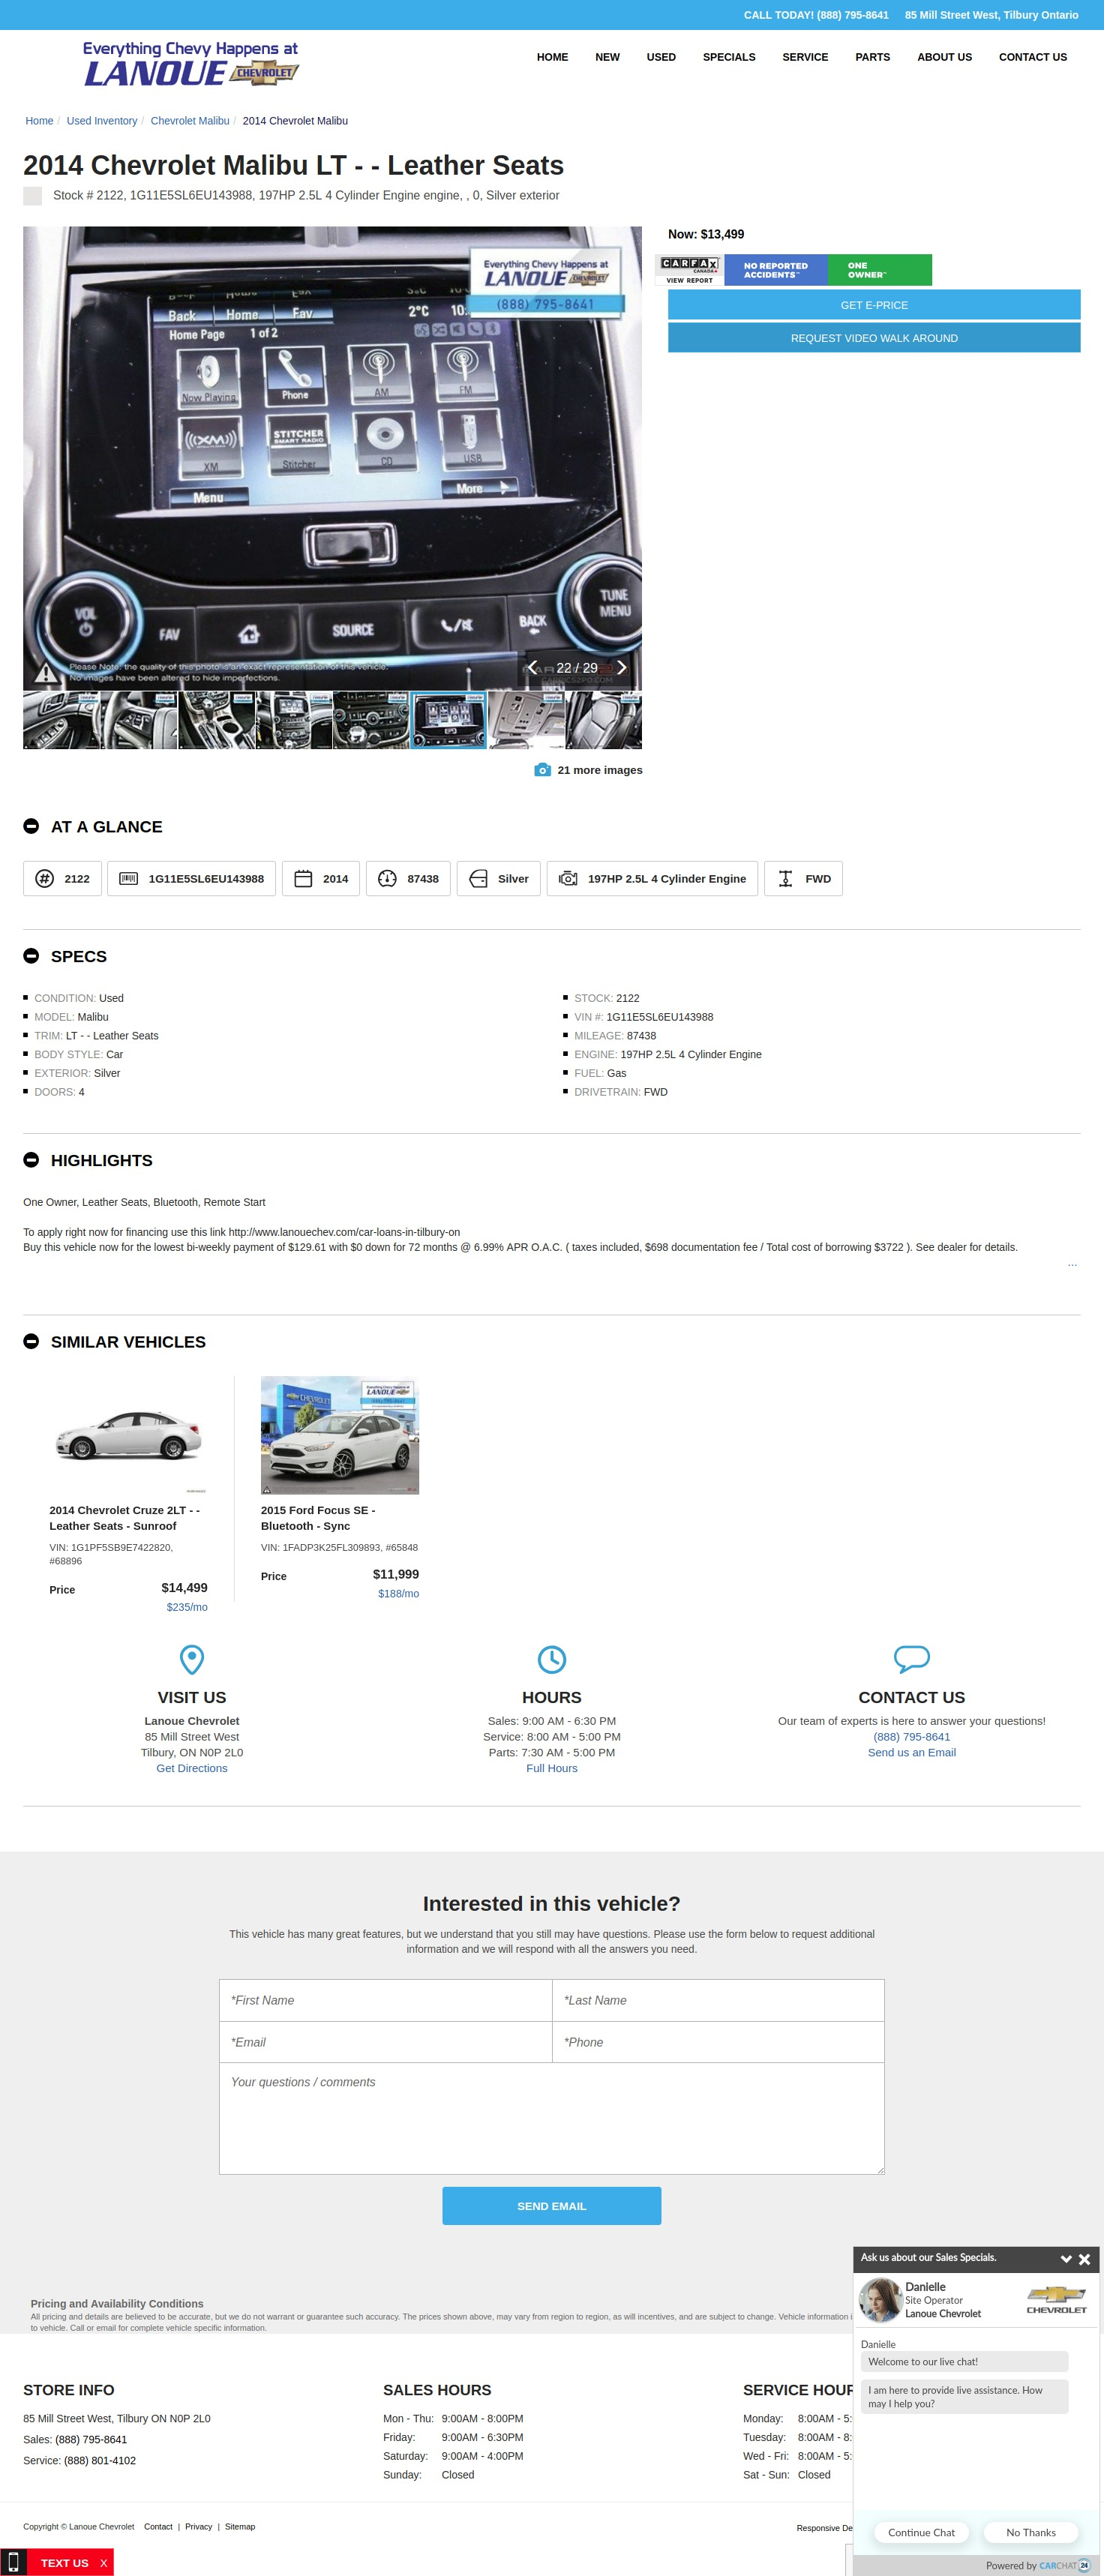car: (611, 660, 629, 679)
